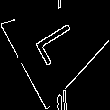L_NE: (34, 18, 89, 69)
